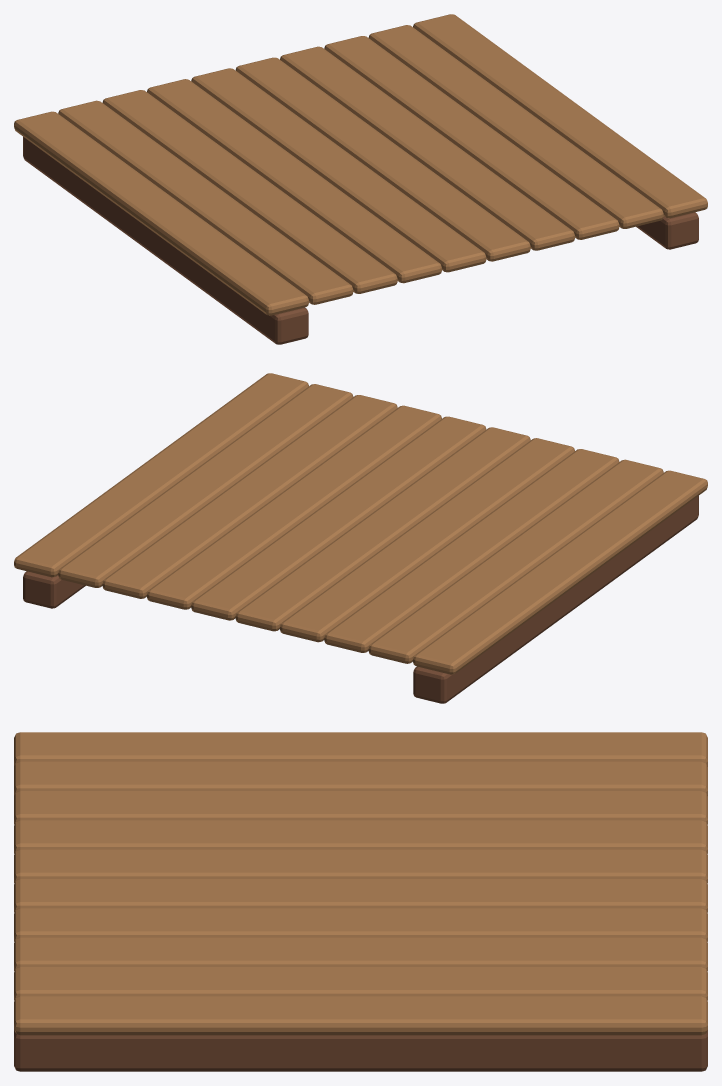
Rendered from floor_cell_2m__structure.glb.
3 views of the same model, one above another, from view 1: azimuth 30°, elevation 25°; view 2: azimuth 150°, elevation 25°; view 3: azimuth 270°, elevation 25° (orthographic). The views are drawn at different scales.
Visible parts, largest first — view 1: floor_cell_2m__structure__mesh_00; view 2: floor_cell_2m__structure__mesh_00; view 3: floor_cell_2m__structure__mesh_00.
Part boxes in pixels (bbox=[...]): floor_cell_2m__structure__mesh_00: bbox=[14, 14, 707, 344]; floor_cell_2m__structure__mesh_00: bbox=[14, 373, 707, 703]; floor_cell_2m__structure__mesh_00: bbox=[14, 732, 707, 1071].
Bounding box in the file's own units: 1.99 × 0.185 × 2.
